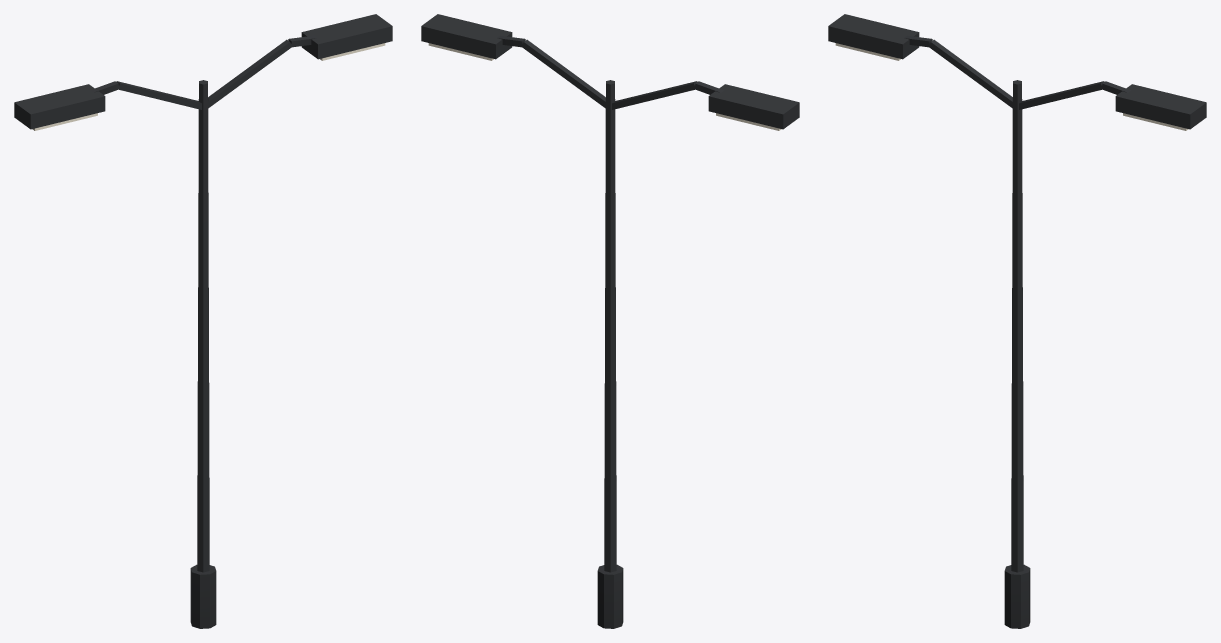
File: lampadaire.glb
The picture shows the model from 3 angles, left to right: view 1: azimuth 30°, elevation 25°; view 2: azimuth 150°, elevation 25°; view 3: azimuth 330°, elevation 25°; orthographic projection.
Parts seen in each view (by area): view 1: lampadaire; view 2: lampadaire; view 3: lampadaire.
Part boxes in pixels (x1,y1,x2,y2): lampadaire: (14,14,392,628); lampadaire: (421,14,799,628); lampadaire: (828,14,1206,628).
Bounding box in the file's own units: 6.3 × 9.35 × 0.4999.
